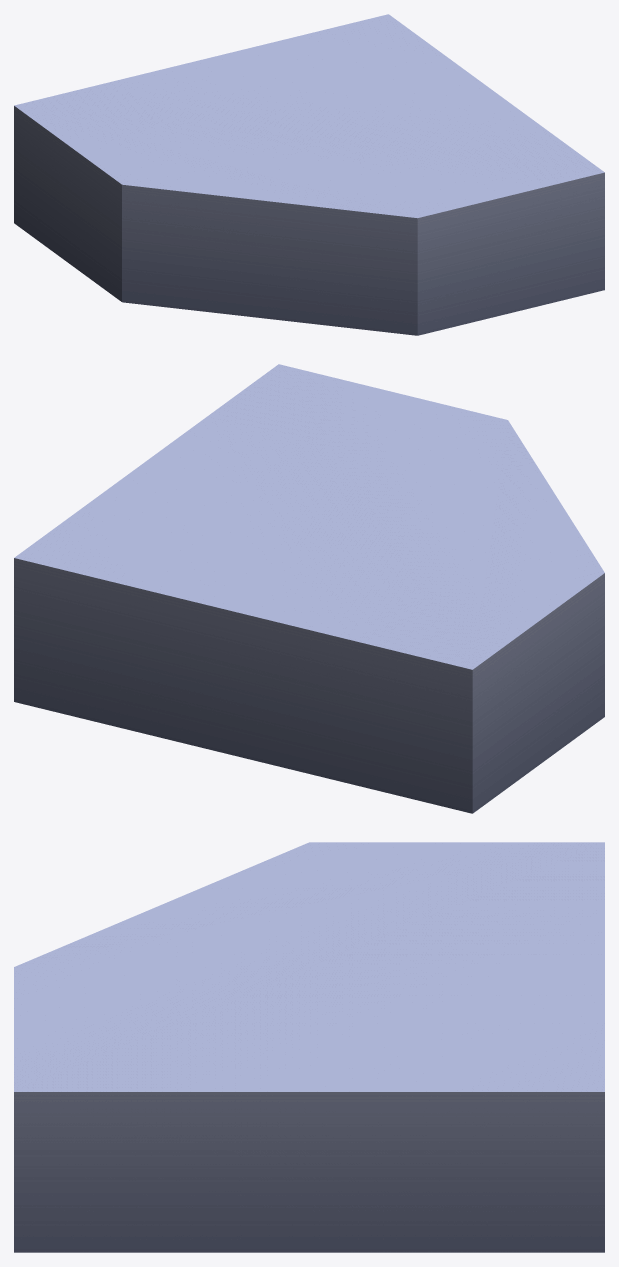
File: floor-corner.glb
3 views of the same model, one above another, from view 1: azimuth 30°, elevation 25°; view 2: azimuth 150°, elevation 25°; view 3: azimuth 270°, elevation 25° (orthographic). The views are drawn at different scales.
Parts seen in each view (by area): view 1: floor-corner; view 2: floor-corner; view 3: floor-corner.
Part boxes in pixels (box(x1,y1,x2,y2)): floor-corner: box(14, 14, 604, 335); floor-corner: box(14, 364, 604, 813); floor-corner: box(14, 842, 604, 1252).
Bounding box in the file's own units: 1 × 0.3 × 1.
1 material, 1 textured.
